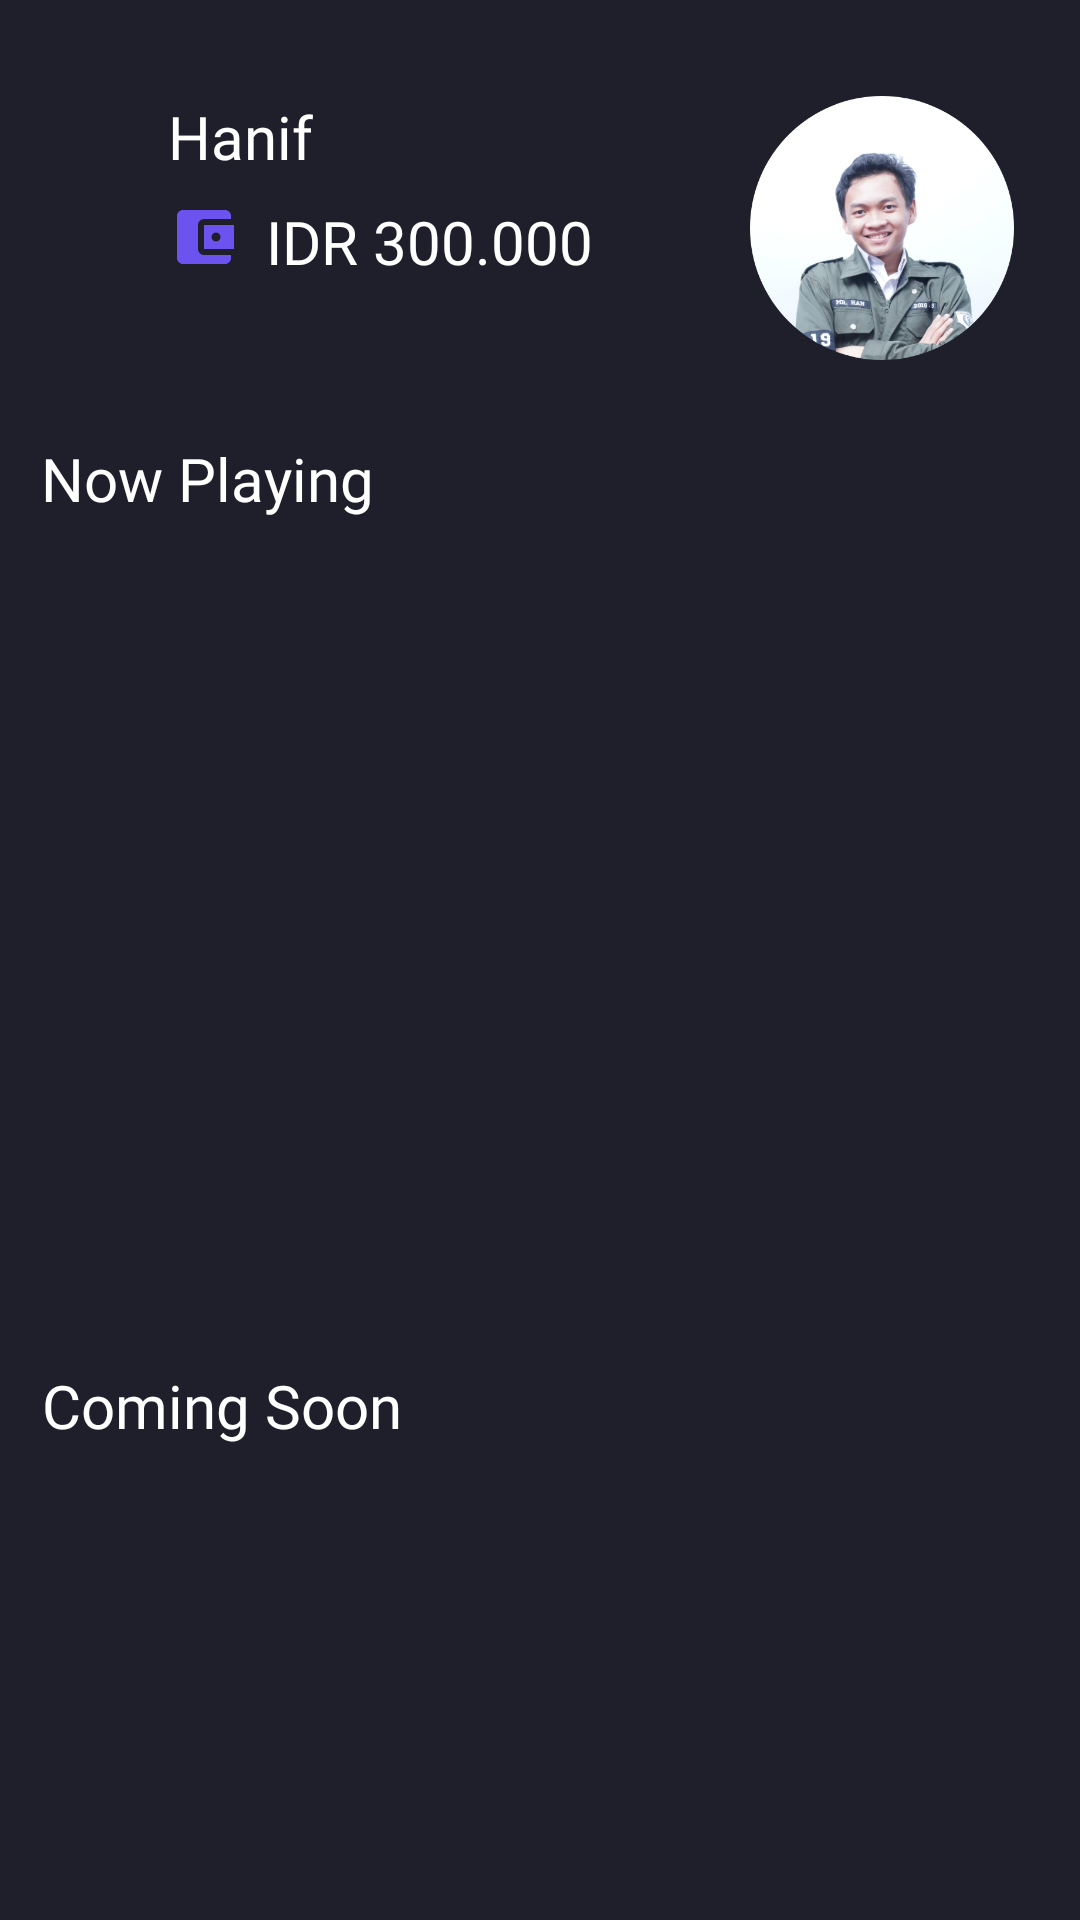

Icons on this 1080 × 1920 Android screen, each with its box as (x1, y1, x2, y2):
account balance wallet: (177, 210, 234, 264)
photo: (750, 96, 1014, 360)
